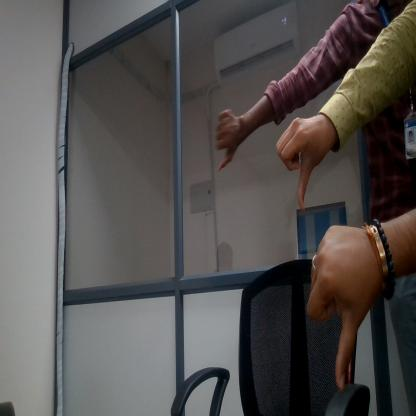Thumbs Down: (299, 211, 390, 400), (272, 113, 333, 217)
